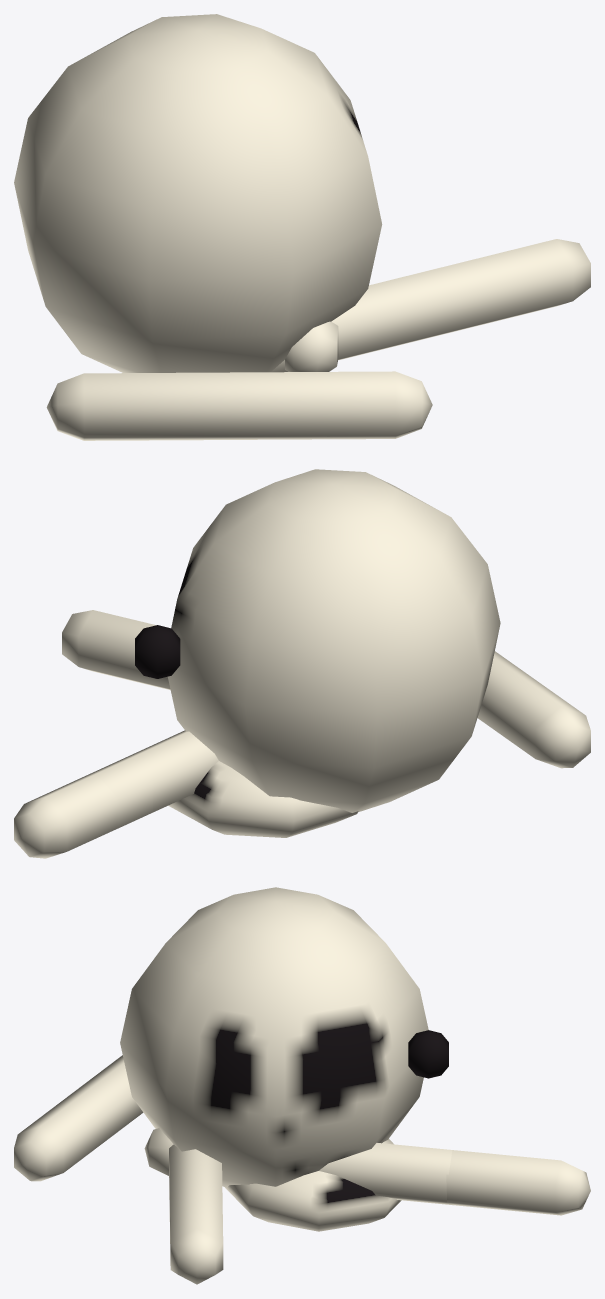
File: prop_bones2_7ff2.glb
3 views of the same model, one above another, from view 1: azimuth 30°, elevation 25°; view 2: azimuth 150°, elevation 25°; view 3: azimuth 270°, elevation 25° (orthographic). The views are drawn at different scales.
Parts seen in each view (by area): view 1: prop_bones2_7ff2; view 2: prop_bones2_7ff2; view 3: prop_bones2_7ff2.
Boxes of the visible parts, x1=… form: prop_bones2_7ff2: x1=14, y1=14, x2=590, y2=440; prop_bones2_7ff2: x1=14, y1=469, x2=590, y2=858; prop_bones2_7ff2: x1=14, y1=887, x2=590, y2=1284.
Size of the model in its own units: 0.6084 by 0.3756 by 0.6713.
1 material, 1 textured.
